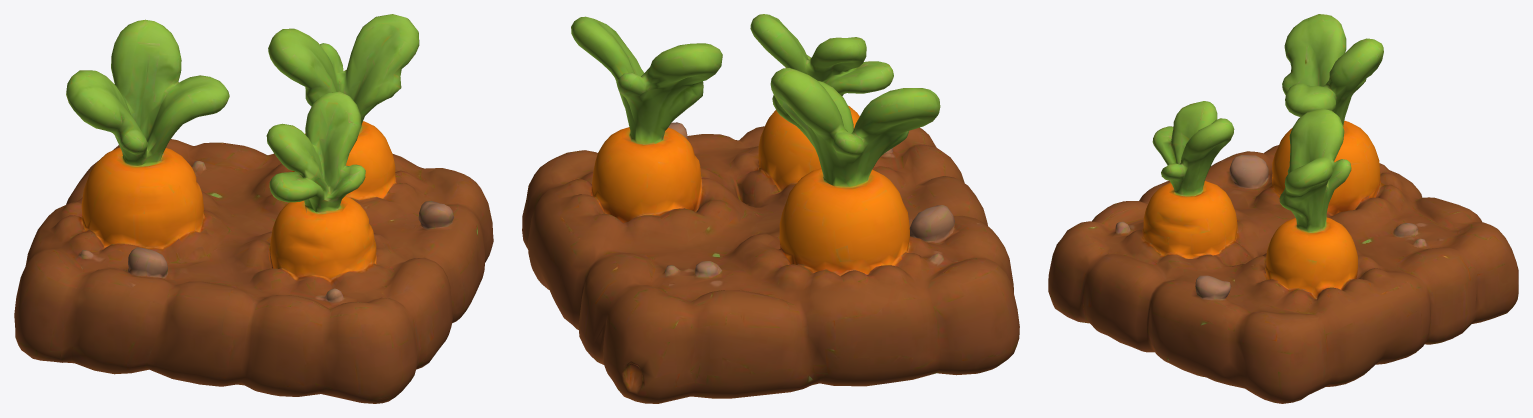
The picture shows the model from 3 angles, left to right: view 1: azimuth 30°, elevation 25°; view 2: azimuth 150°, elevation 25°; view 3: azimuth 270°, elevation 25°; orthographic projection. The views are drawn at different scales.
Parts seen in each view (by area): view 1: carrot-growing; view 2: carrot-growing; view 3: carrot-growing.
Part boxes in pixels (x1,y1,x2,y2): carrot-growing: (14,14,493,403); carrot-growing: (522,14,1019,403); carrot-growing: (1048,14,1518,403).
Size of the model in its own units: 0.7936 by 0.4491 by 0.7901.
Materials: 1 (1 with a texture image).
